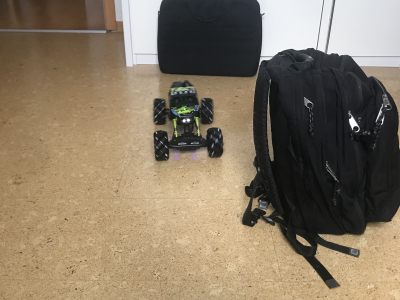remote control car: (149, 77, 224, 162)
